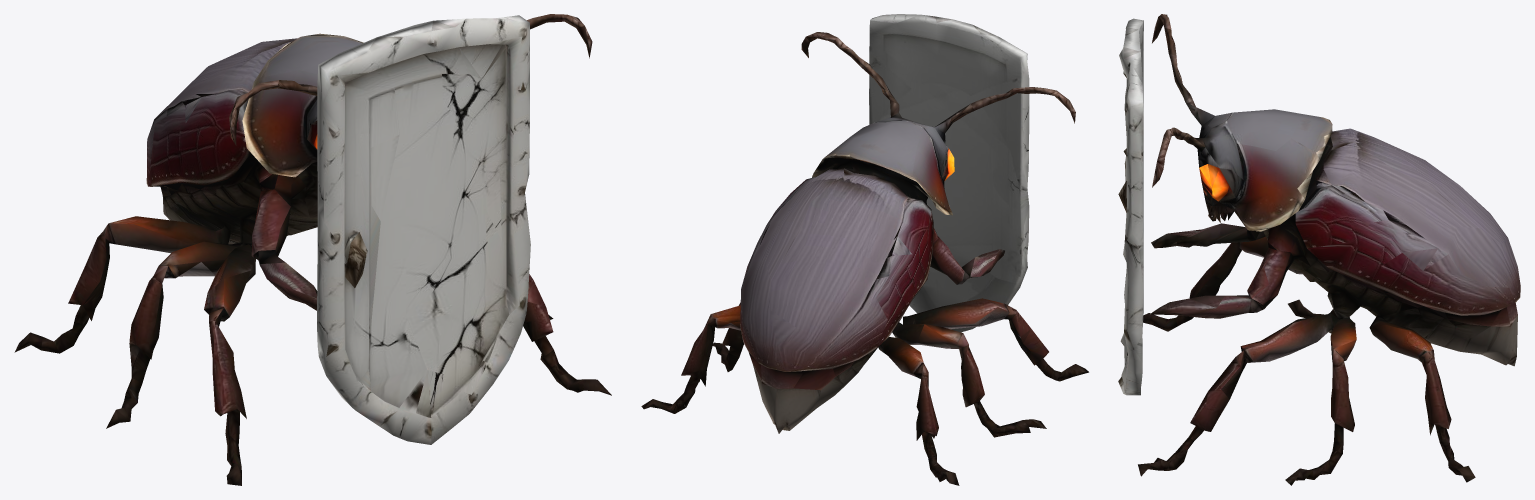
File: enemy_shieldbug_alt.glb
3 views of the same model, side by side, from view 1: azimuth 30°, elevation 25°; view 2: azimuth 150°, elevation 25°; view 3: azimuth 270°, elevation 25° (orthographic). The views are drawn at different scales.
Parts seen in each view (by area): view 1: enemy_shieldbug_alt; view 2: enemy_shieldbug_alt; view 3: enemy_shieldbug_alt.
Boxes of the visible parts, left/top/right/bottom form: enemy_shieldbug_alt: left=14, top=14, right=611, bottom=485; enemy_shieldbug_alt: left=641, top=14, right=1088, bottom=485; enemy_shieldbug_alt: left=1118, top=14, right=1520, bottom=485.
Bounding box in the file's own units: 1.1 × 1 × 1.03.
Materials: 1 (1 with a texture image).
